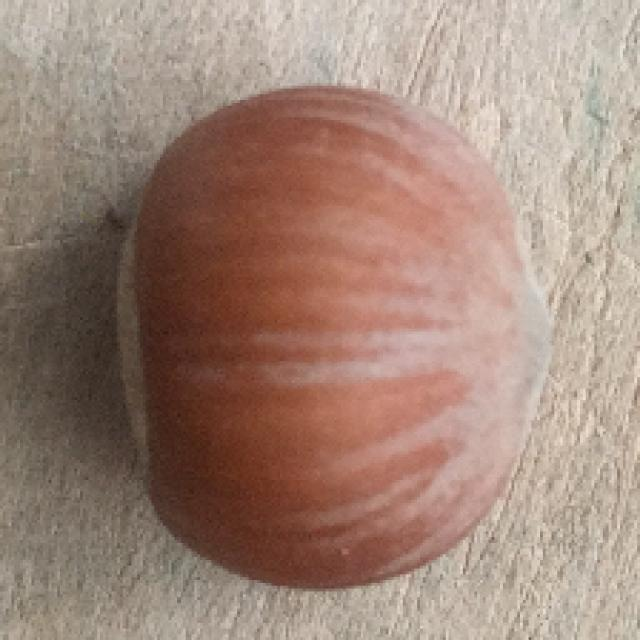qualityHazelnut: (116, 85, 554, 592)
